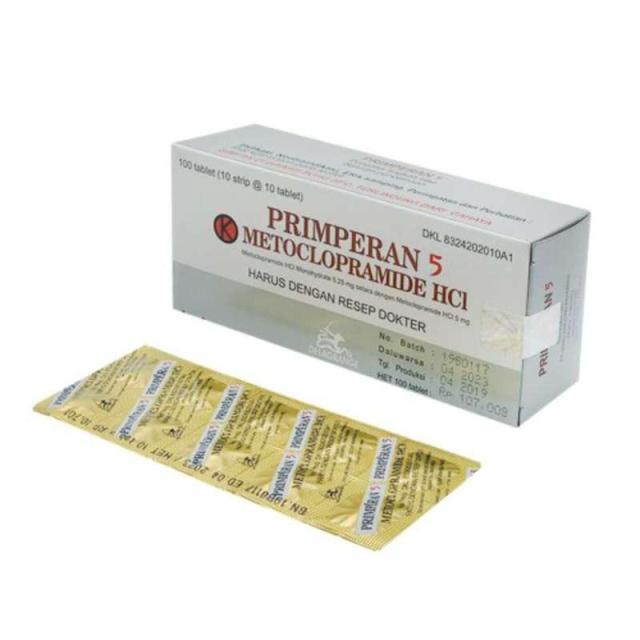drug-name: (267, 202, 457, 287)
